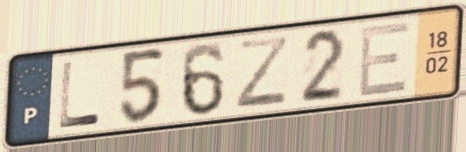2: (298, 26, 349, 106)
5: (116, 43, 169, 128)
6: (179, 39, 228, 120)
E: (355, 18, 413, 100)
L: (57, 59, 104, 132)
Z: (232, 33, 291, 111)
